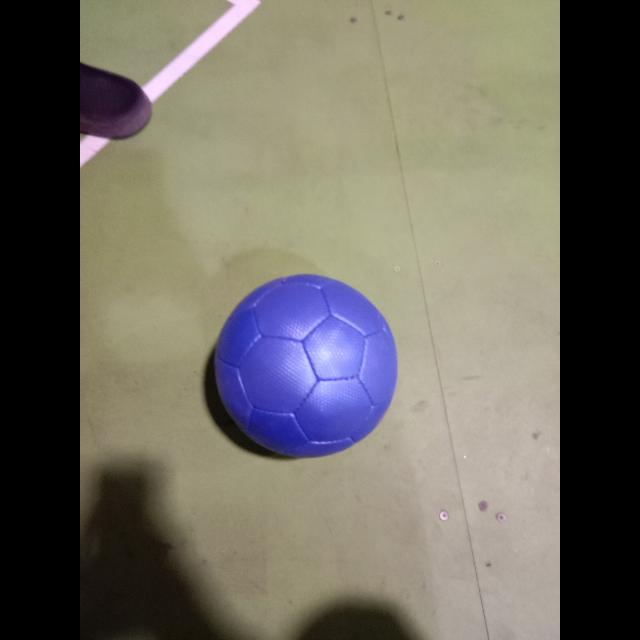B: (212, 274, 398, 458)
